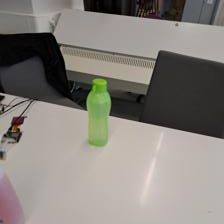bottle: (83, 74, 114, 145)
